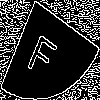F: (25, 24, 62, 80)
